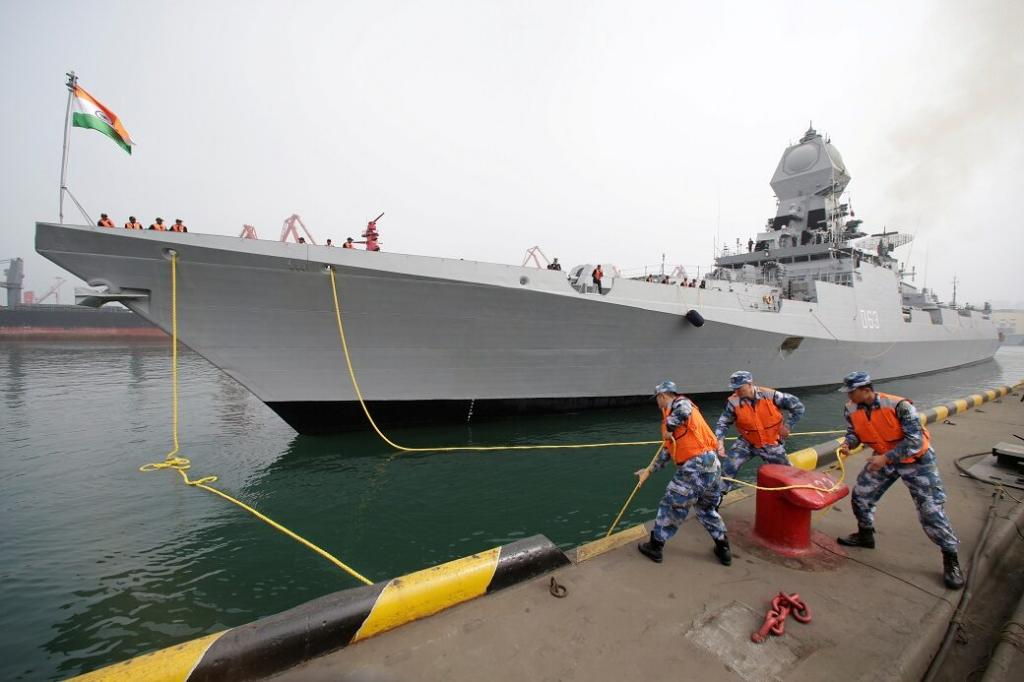Warship: (31, 124, 1011, 457)
